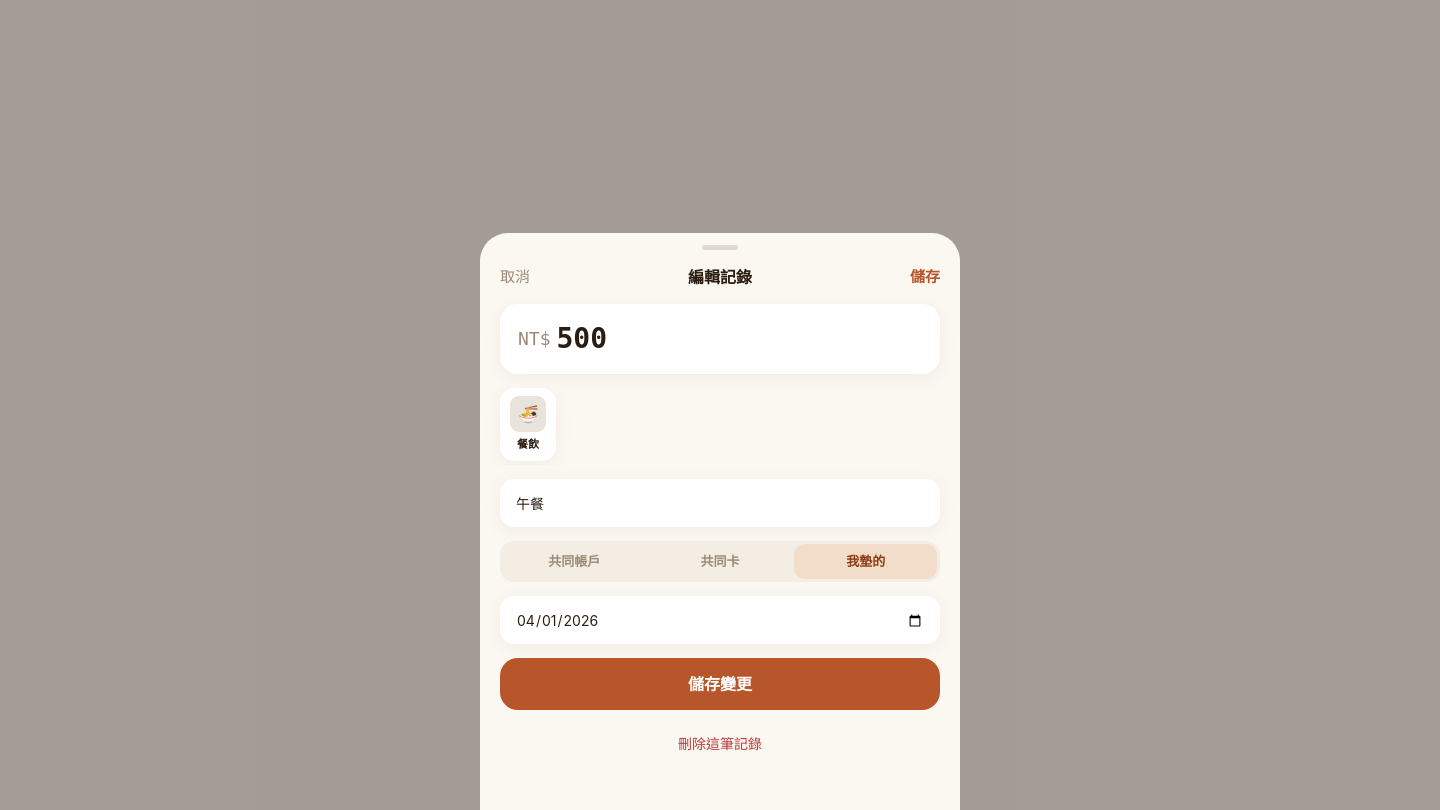
Test case: TransactionFormModal › 刪除操作 › 點擊刪除後顯示確認按鈕
Click the button "刪除這筆記錄": (720, 744) 500,724 -> 940,764
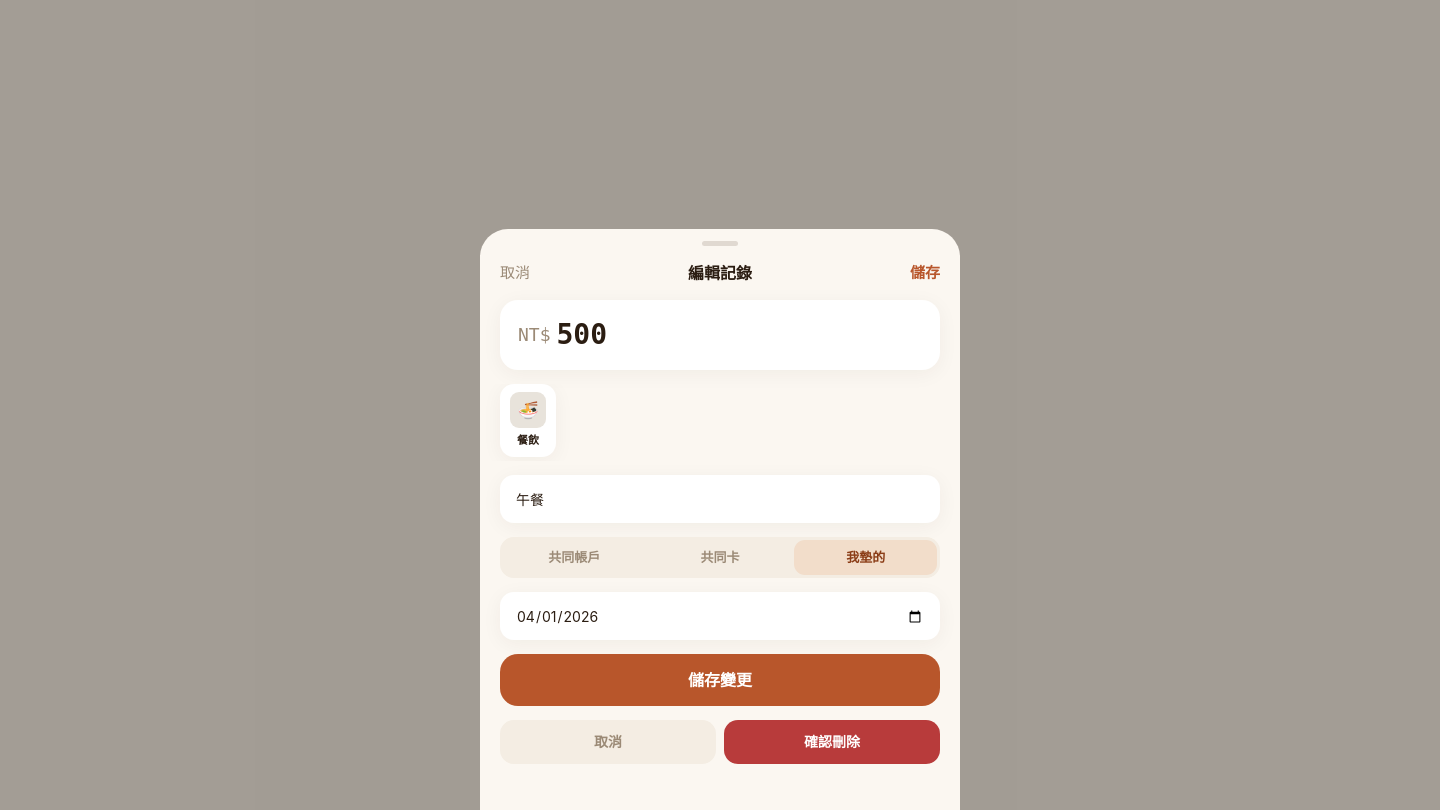
Result: the button "確認刪除" is shown at 724,720 -> 940,764
